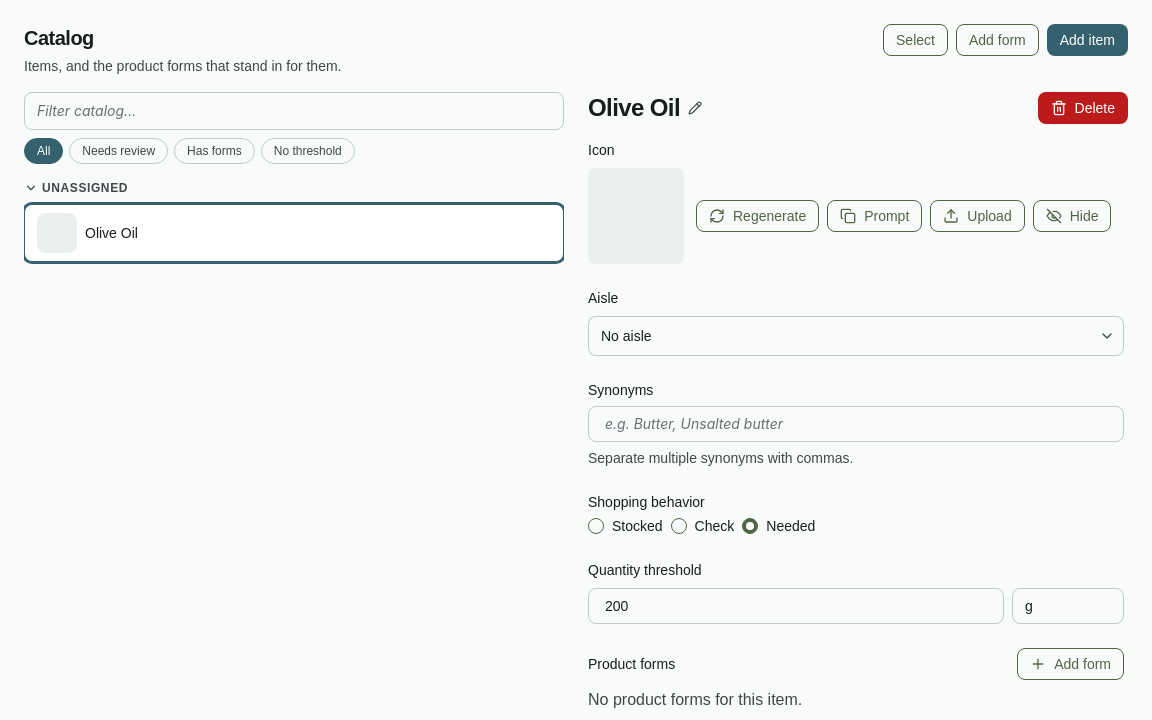
Test: the catalog record editor › quantity threshold — no Save button › reverts the threshold on Escape and writes nothing
Replace the text in the field with test id "canon-detail-threshold-input" with "999": (796, 606) [605,596,987,616]
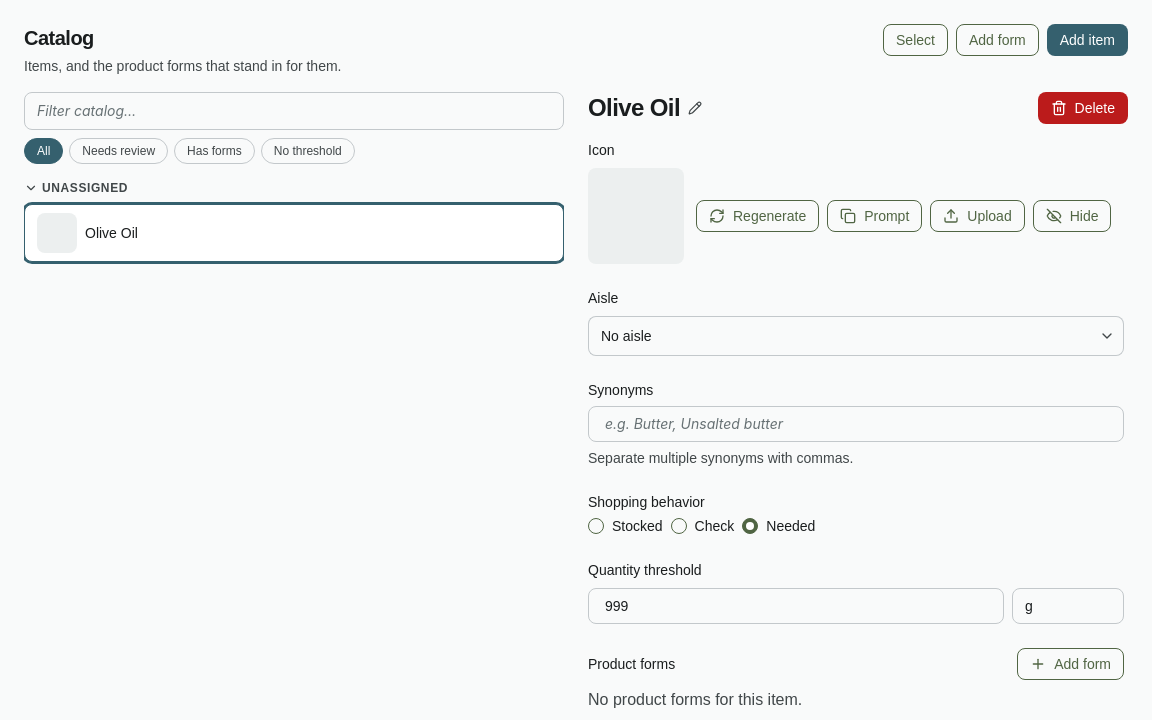
Press Escape in the field with test id "canon-detail-threshold-input", box [605,596,987,616]
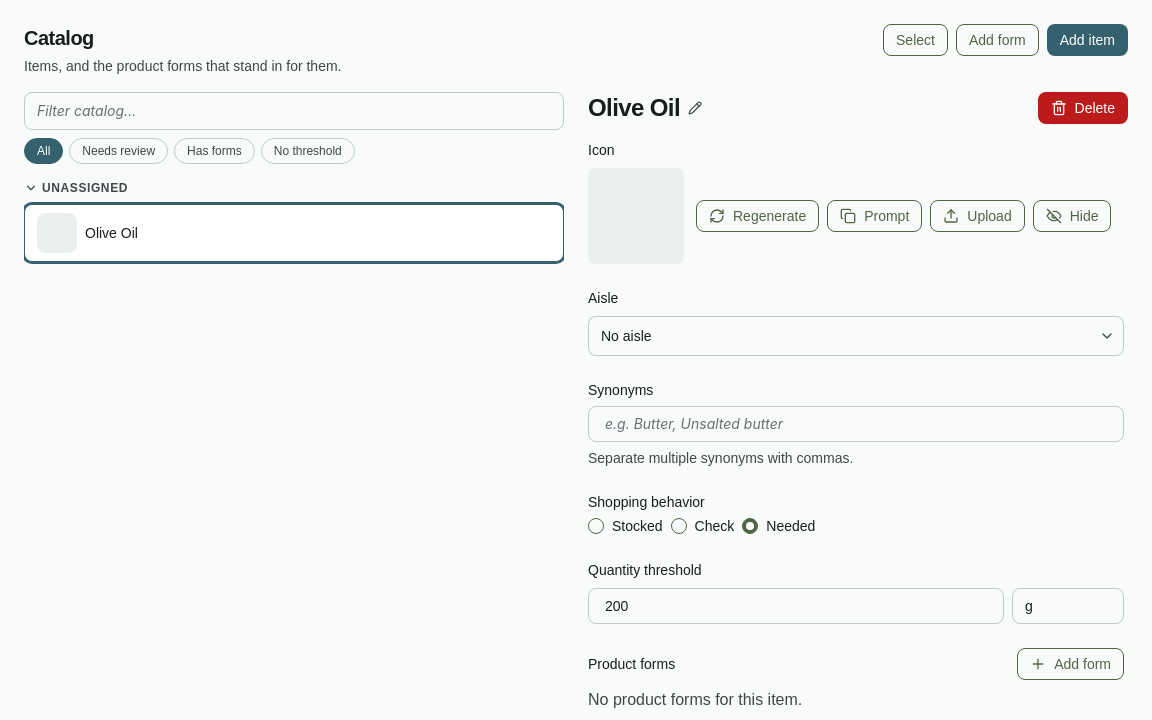
Expected: the field with test id "canon-detail-threshold-input" holds "200", [605,596,987,616]
